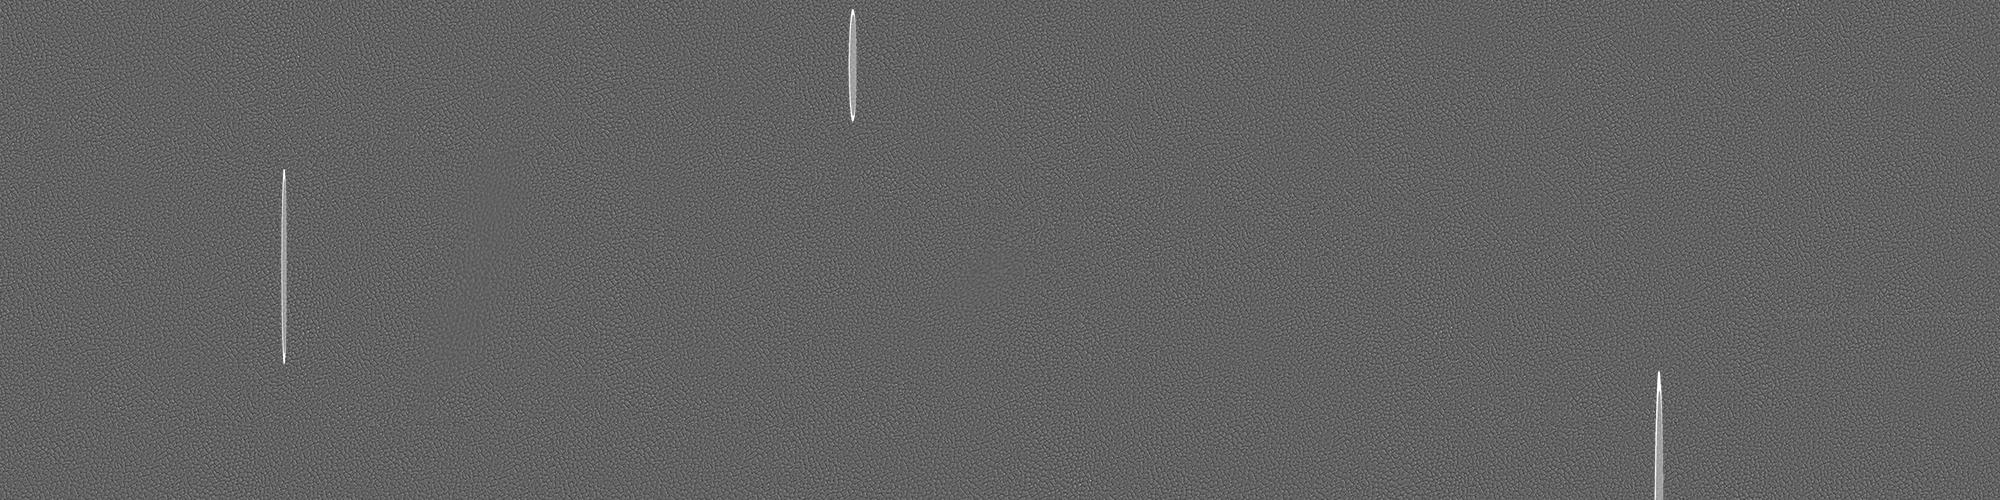Streaks: (269, 162, 293, 379), (1645, 358, 1676, 500), (838, 3, 869, 131)
